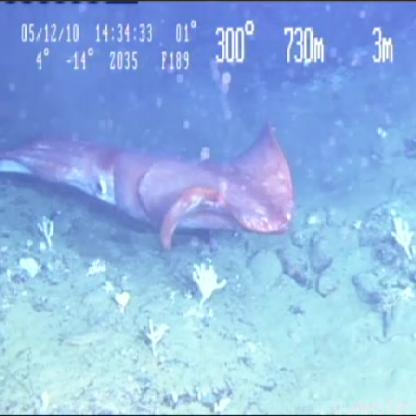Bio: (1, 118, 299, 258), (190, 260, 229, 313), (141, 314, 174, 358), (32, 214, 59, 252)
